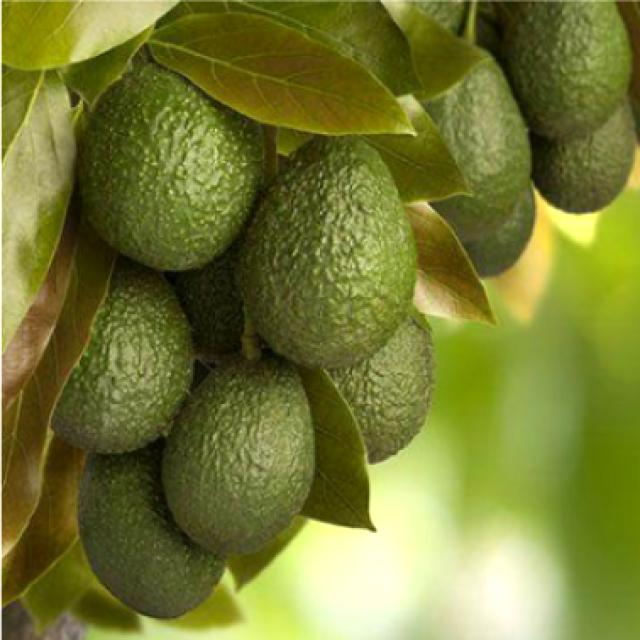fruit: (240, 136, 417, 370), (166, 362, 315, 557)
leaf: (2, 226, 117, 548), (146, 5, 405, 138), (174, 2, 422, 100), (3, 70, 71, 340), (405, 202, 496, 326)
occludedfruit: (88, 65, 264, 272), (51, 261, 193, 457), (78, 457, 227, 623), (423, 63, 523, 244), (501, 3, 633, 139), (328, 314, 437, 465), (532, 104, 635, 216), (466, 190, 535, 278)
peduncle: (242, 314, 266, 367)
